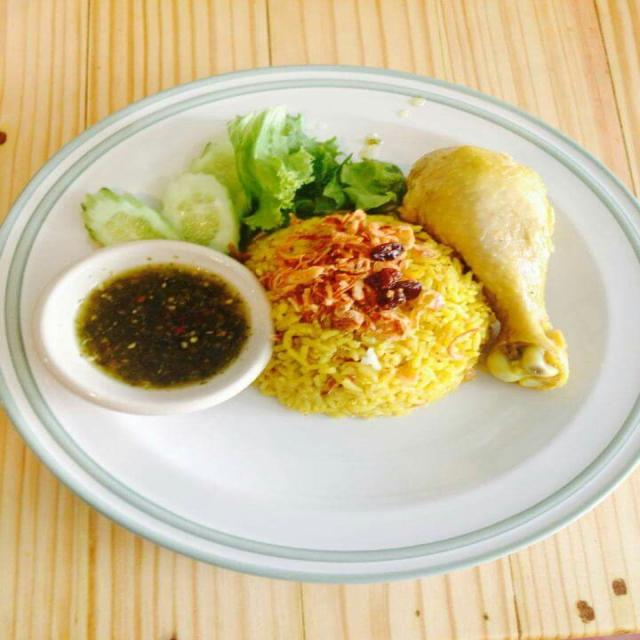Carbohydrate: (231, 210, 492, 416)
Kaow-Mokkai: (43, 80, 620, 467)
Protein: (404, 144, 578, 393)
Vegetable: (86, 105, 402, 256)
